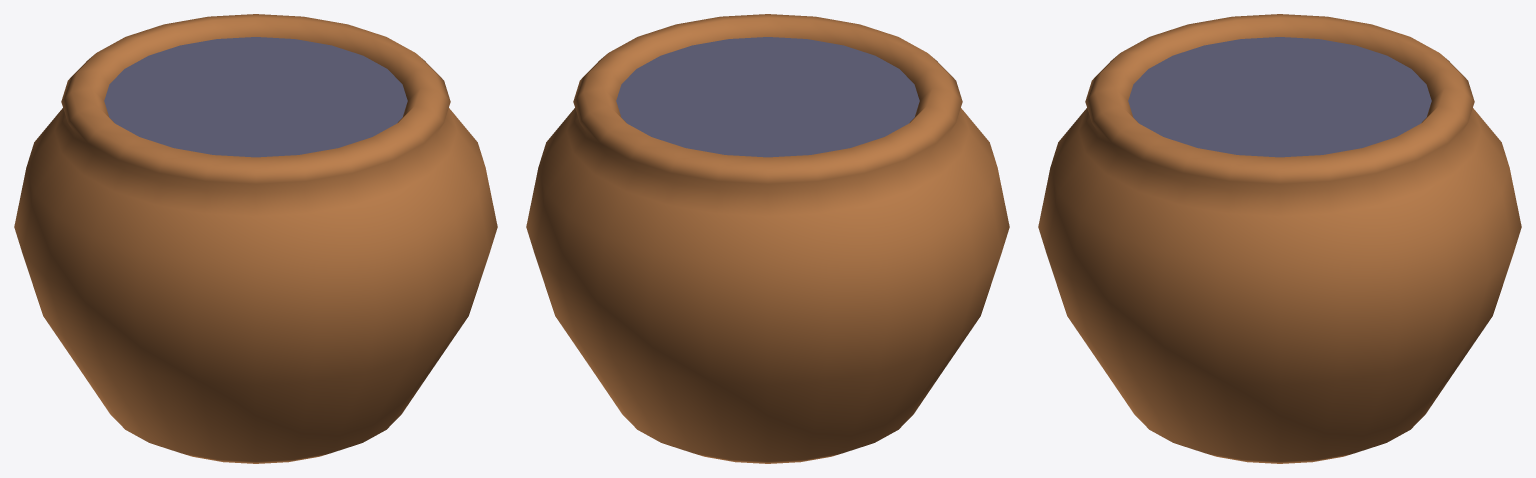
File: Clay_Pot.gltf
The picture shows the model from 3 angles, left to right: view 1: azimuth 30°, elevation 25°; view 2: azimuth 150°, elevation 25°; view 3: azimuth 270°, elevation 25°; orthographic projection.
Parts seen in each view (by area): view 1: Clay_Pot, Clay_Pot_Water; view 2: Clay_Pot, Clay_Pot_Water; view 3: Clay_Pot, Clay_Pot_Water.
Boxes of the visible parts, x1,y1,x2,y2 form: Clay_Pot: [14, 14, 497, 463]; Clay_Pot_Water: [104, 37, 407, 157]; Clay_Pot: [526, 14, 1009, 463]; Clay_Pot_Water: [616, 37, 919, 157]; Clay_Pot: [1038, 14, 1521, 463]; Clay_Pot_Water: [1128, 37, 1431, 157].
Size of the model in its own units: 95.31 by 70.17 by 95.31.
2 materials, 2 textured.
